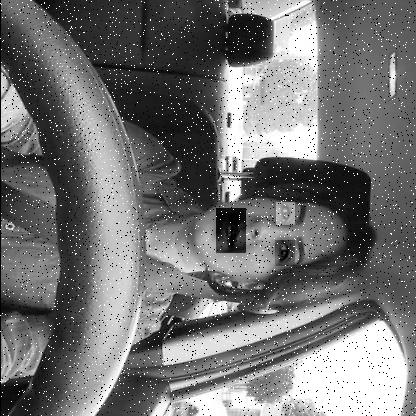seatbelt: (0, 158, 391, 312)
